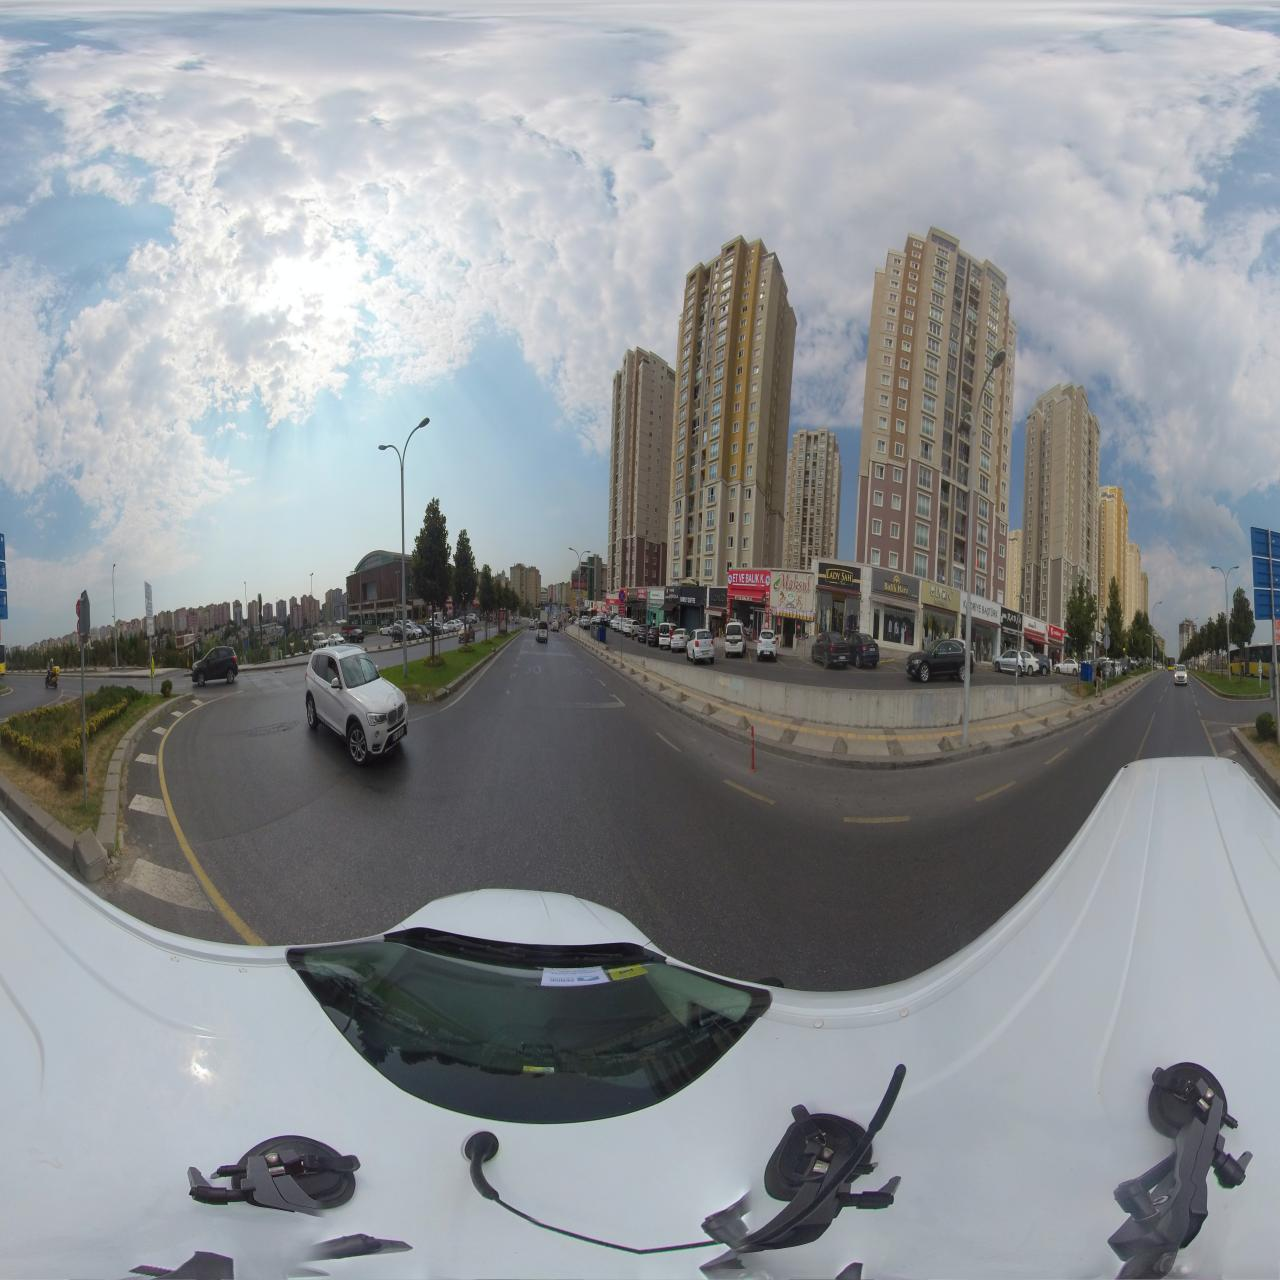SignStore: (771, 572, 812, 610), (879, 570, 915, 601), (821, 564, 860, 592), (927, 581, 956, 611), (973, 594, 1000, 625), (728, 571, 770, 590), (1024, 617, 1046, 635), (679, 592, 700, 605), (1049, 625, 1063, 640), (665, 587, 680, 601), (638, 588, 647, 599), (649, 592, 663, 599), (627, 590, 638, 598)
